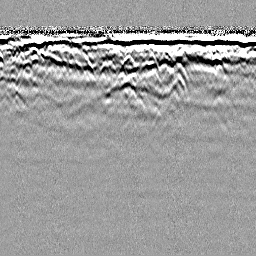cavity: (120, 52, 136, 68)
